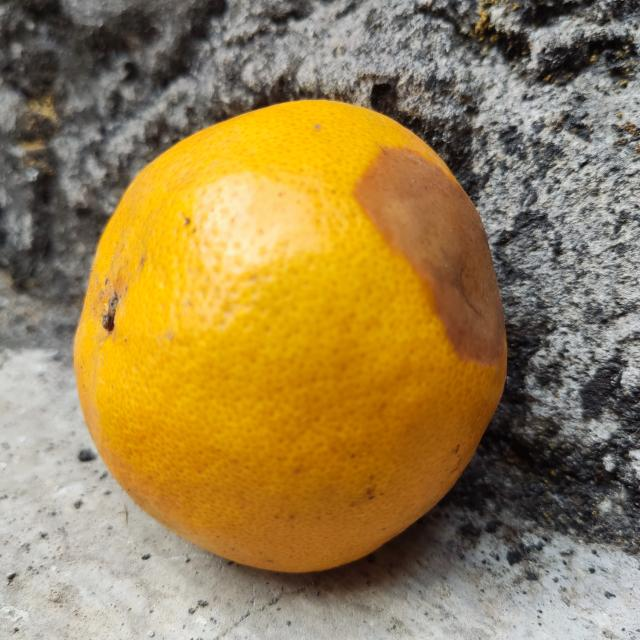orange: (75, 99, 506, 576)
